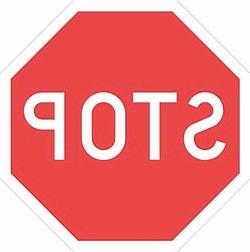Stop: (12, 12, 239, 239)
